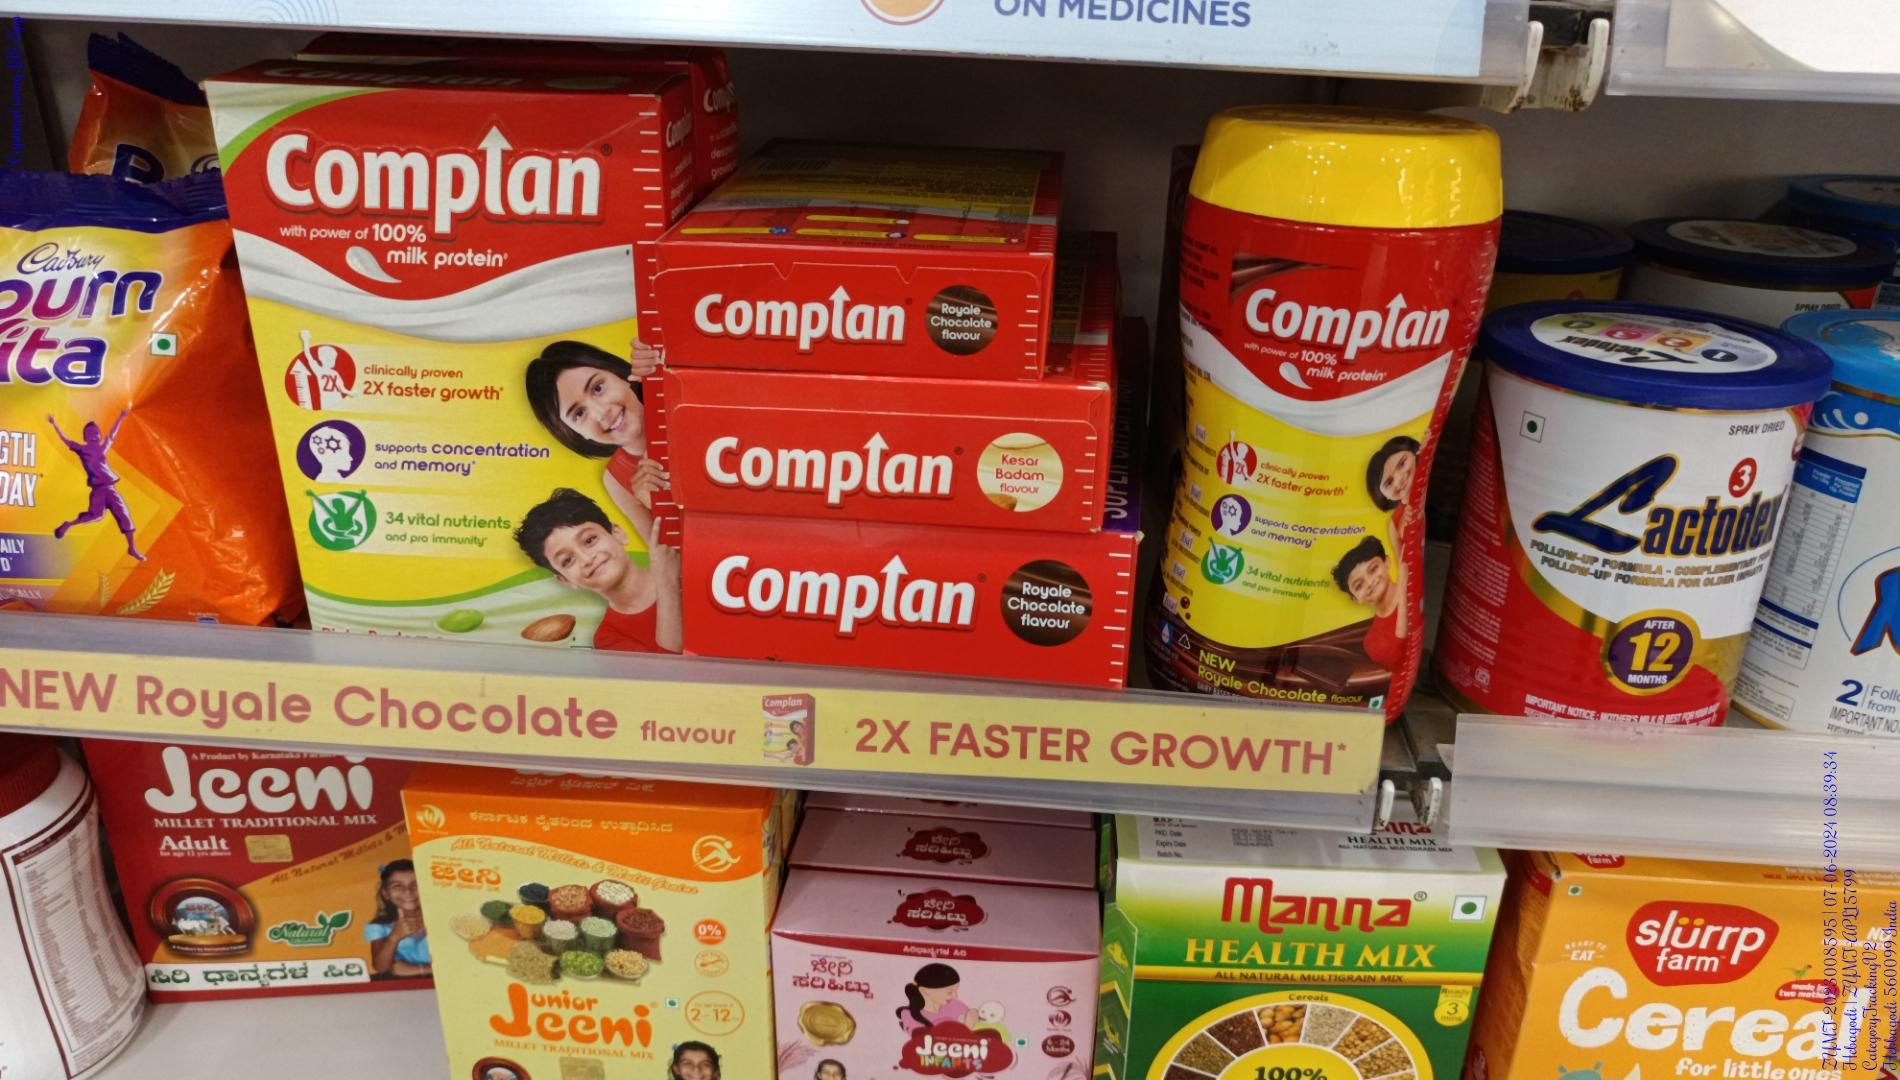COMPLAN_CHOCOLATE_500_GMS_JAR: (1171, 120, 1462, 710)
COMPLAN_PISTA_BADAM_500_GMS_PACK: (230, 82, 650, 659)
